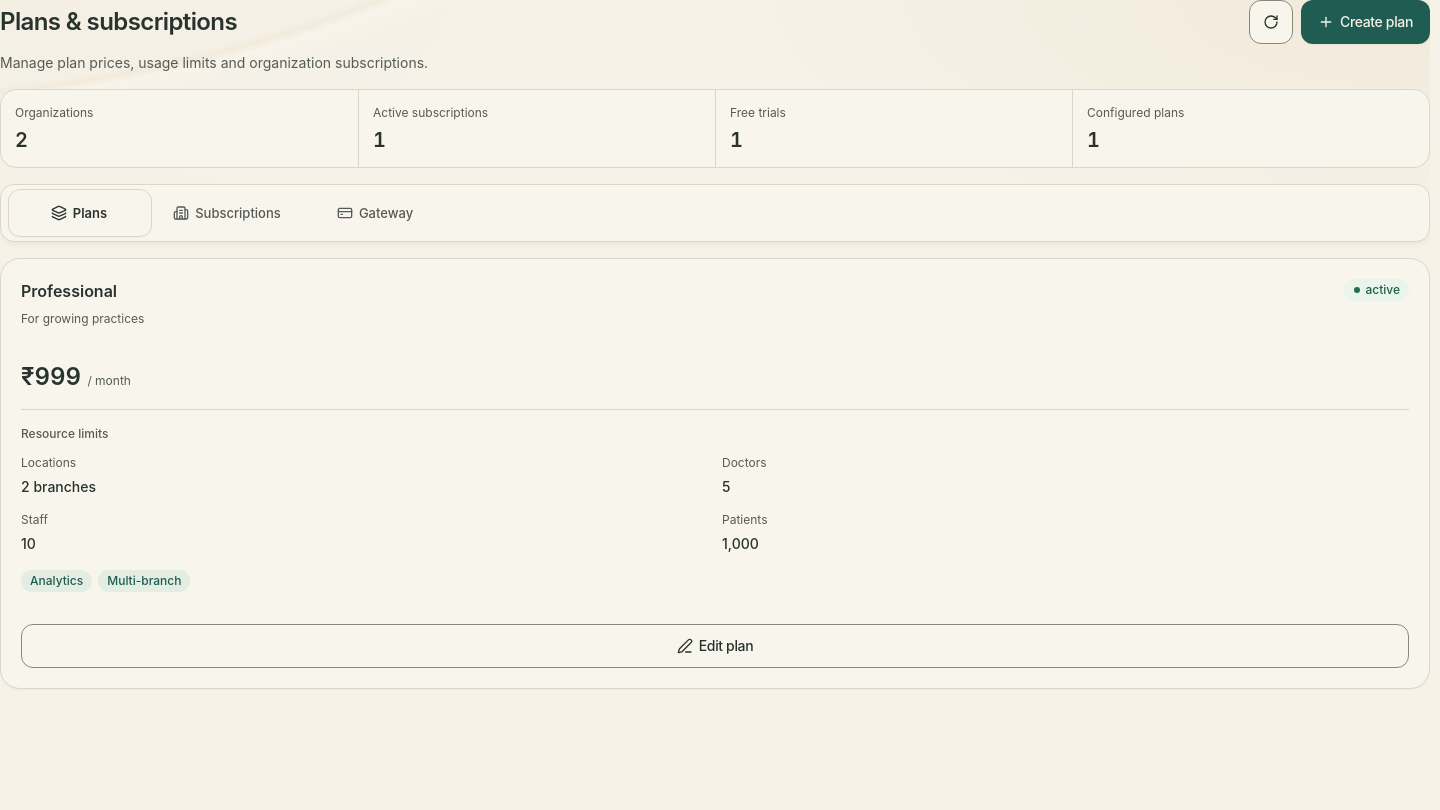
Scenario: Platform billing workspace › renders captured-payment review details without granting access or recording a refund
This screenshot has width=1440, height=810.
Click the tab "Subscriptions": (227, 213) [155,191,299,235]
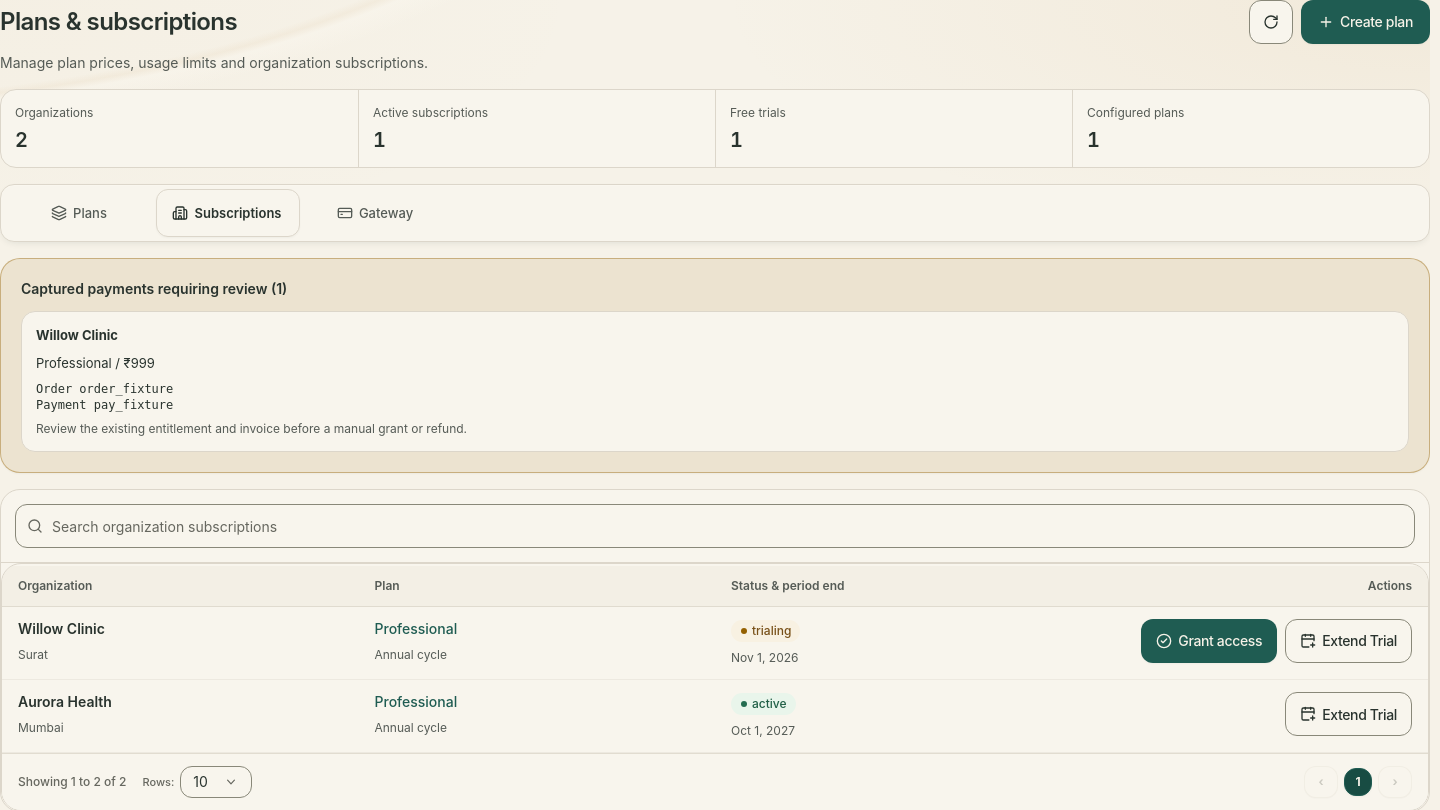
Result: the heading "Captured payments requiring review (1)" is shown at [21,280,287,297]
Result: the text "order_fixture" is shown at [79,382,173,396]
